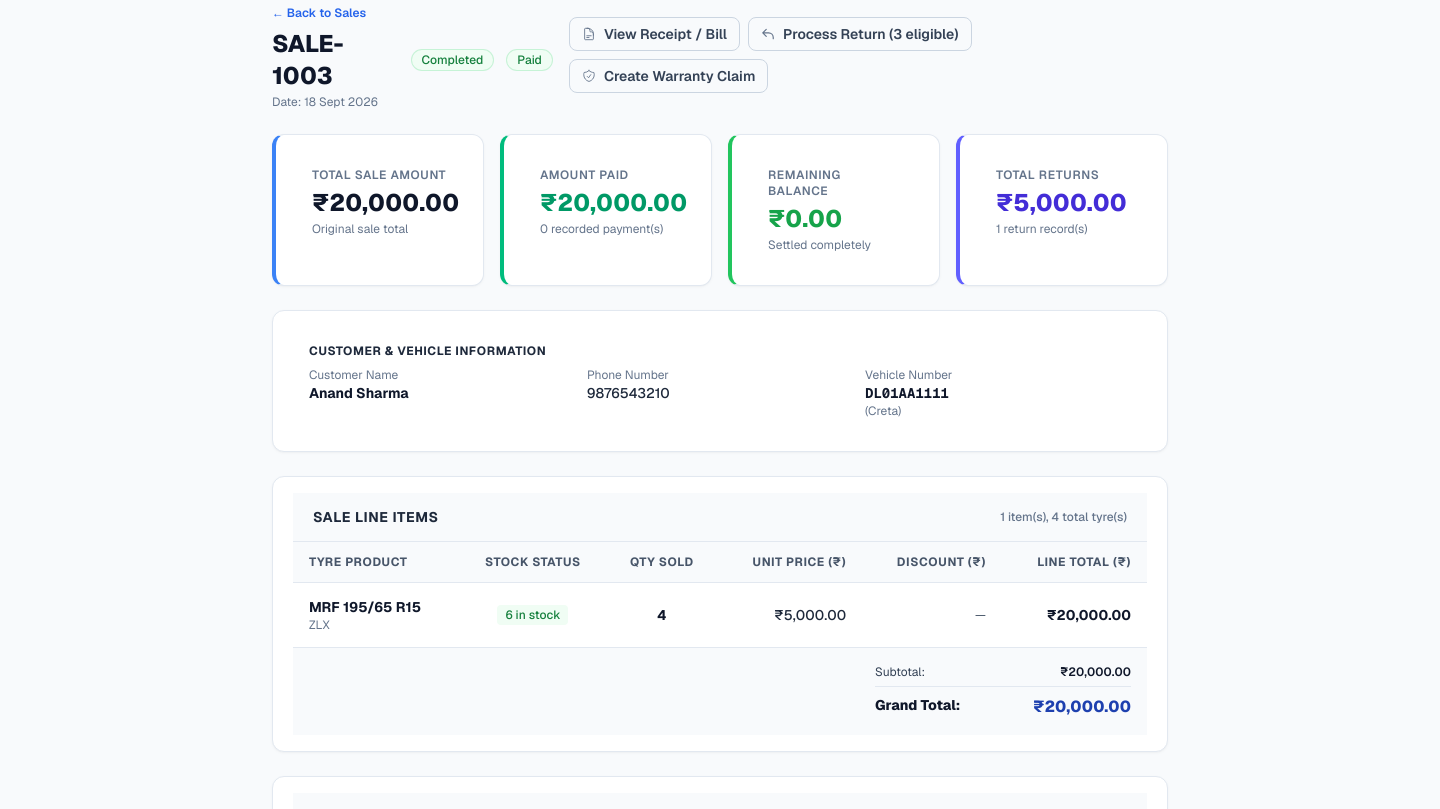
SaleDetailPage UI Component › renders returns history and opens Process Return modal for eligible completed sale
Check: the heading "SALE-1003" is shown, box [272,28,344,91]
Check: the text "Total Returns" is shown, box [996,167,1099,183]
// Open Return modal
What coordinates should you click on to do the following:
click the button "Process Return (3 eligible)"
I would click on:
 (860, 34)
Its box is [748,17,972,51].
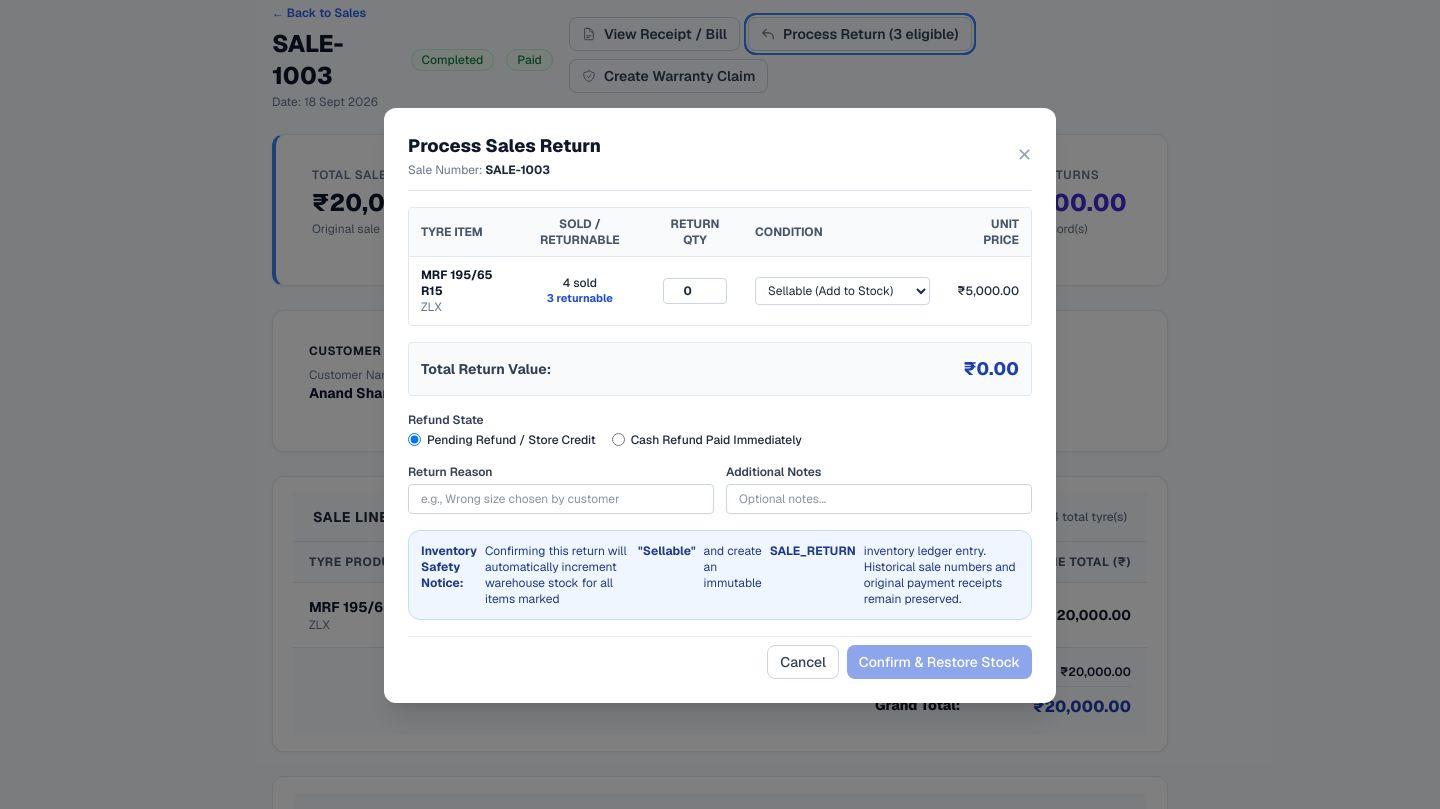
Check: the heading "Process Sales Return" is shown, box [408,132,601,160]
Check: the text "3 returnable" is shown, box [547,291,613,305]
// Close modal via Cancel
What coordinates should you click on to do the following:
click the button "Cancel"
I would click on:
 (803, 662)
Its box is [767,644,839,678].
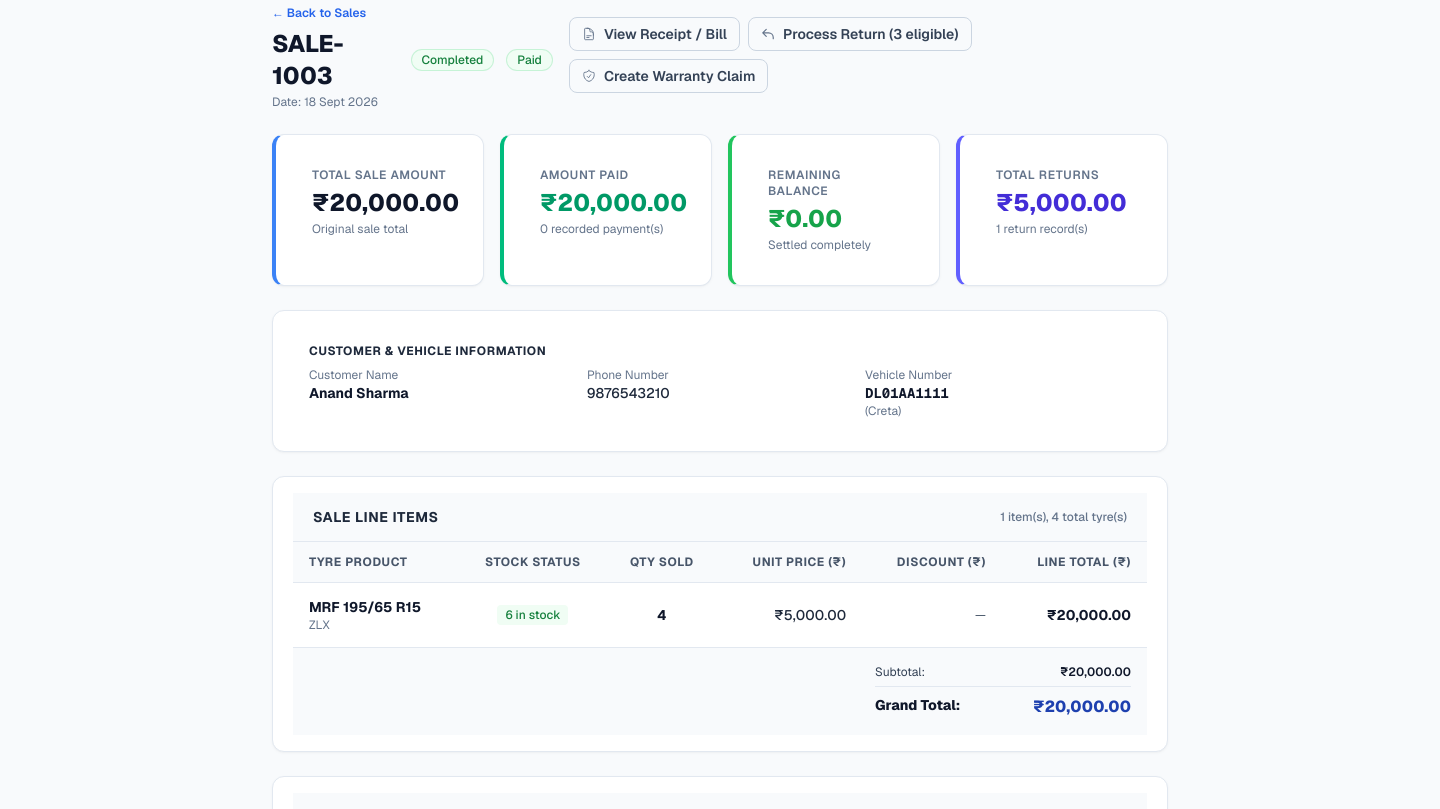
Check: the heading "Process Sales Return" is gone
